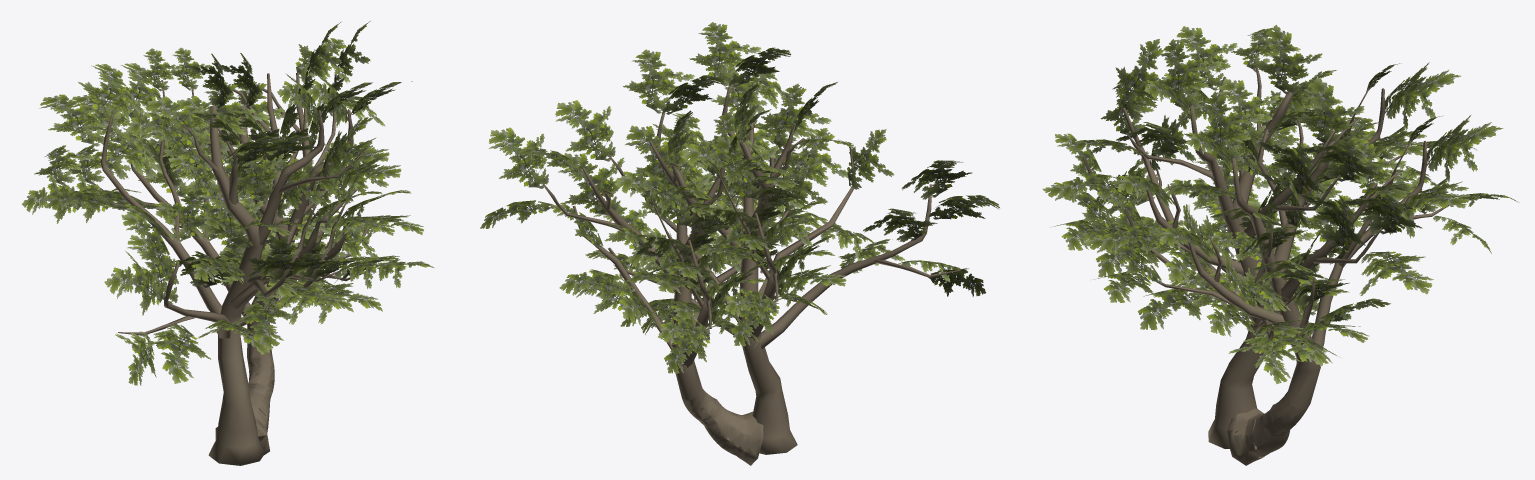
File: tree1.fbx
The picture shows the model from 3 angles, left to right: view 1: azimuth 30°, elevation 25°; view 2: azimuth 150°, elevation 25°; view 3: azimuth 270°, elevation 25°; orthographic projection. The views are drawn at different scales.
Visible parts, largest first — view 1: Tree_Bootcamp, Tree_Bootcamp_Bend; view 2: Tree_Bootcamp, Tree_Bootcamp_Bend; view 3: Tree_Bootcamp_Bend, Tree_Bootcamp.
Part boxes in pixels (x1,y1,x2,y2): Tree_Bootcamp: [22, 22, 405, 465]; Tree_Bootcamp_Bend: [56, 21, 434, 454]; Tree_Bootcamp: [555, 22, 999, 454]; Tree_Bootcamp_Bend: [480, 49, 827, 465]; Tree_Bootcamp_Bend: [1084, 77, 1519, 465]; Tree_Bootcamp: [1042, 25, 1477, 448].
Bounding box in the file's own units: 1139 × 1070 × 1094.
